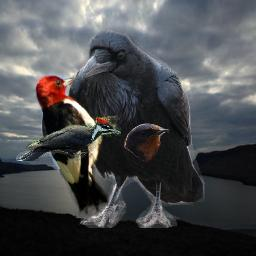Crow: (66, 29, 205, 228)
Swallow: (124, 123, 170, 162)
Woodpecker: (34, 74, 120, 216), (16, 117, 121, 161)
